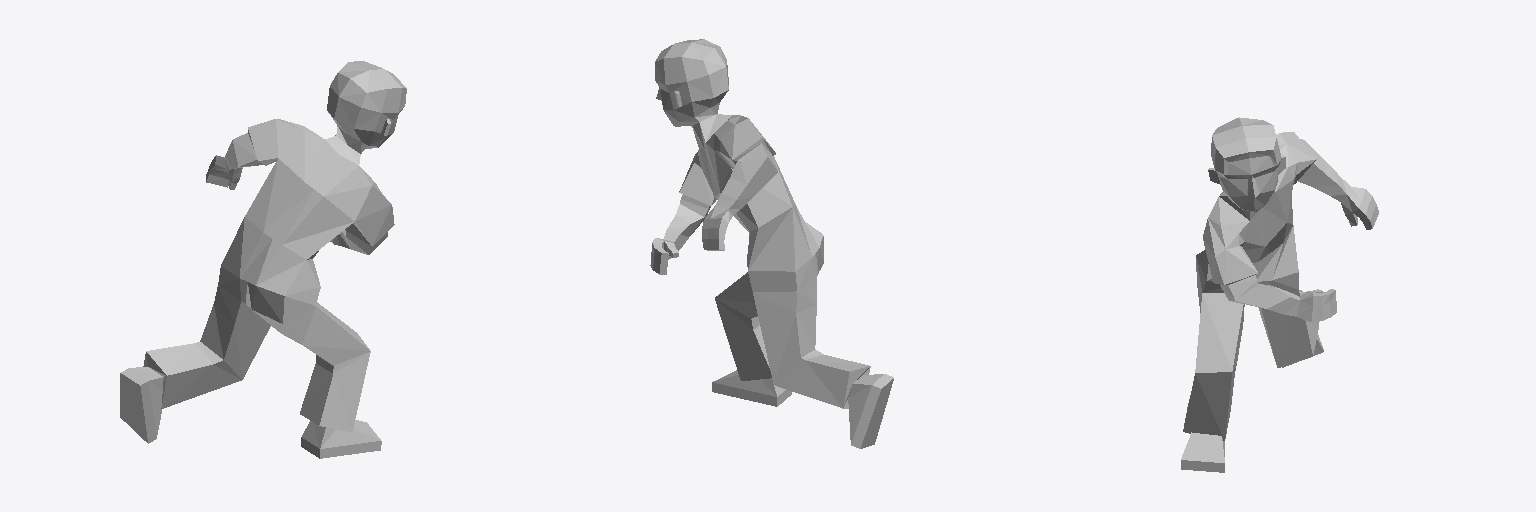
File: zombie_male_attack_5.obj
3 renders of one model, left to right at view 1: azimuth 30°, elevation 25°; view 2: azimuth 150°, elevation 25°; view 3: azimuth 270°, elevation 25°, orthographic.
Size of the model in its own units: 1.11 by 1.5 by 0.7639.